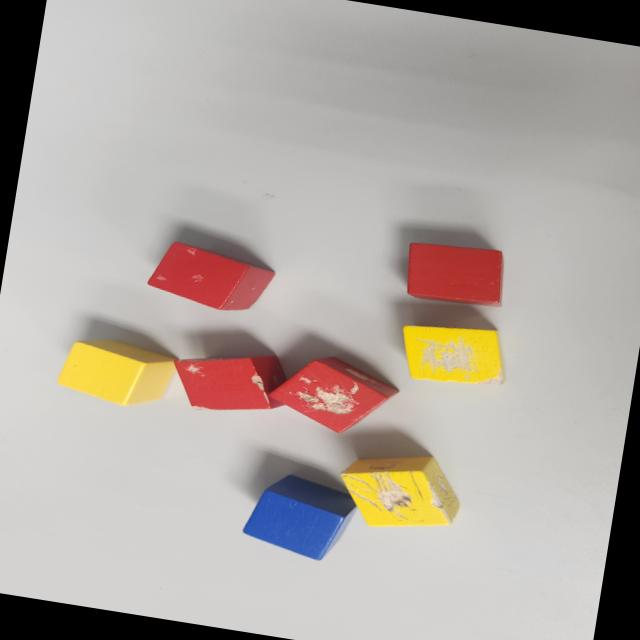blue: (240, 468, 362, 564)
broken: (332, 442, 468, 540), (263, 348, 402, 442), (144, 238, 278, 318), (164, 340, 288, 422), (396, 316, 512, 394)
red: (400, 236, 510, 312)
yellow: (52, 331, 182, 415)
